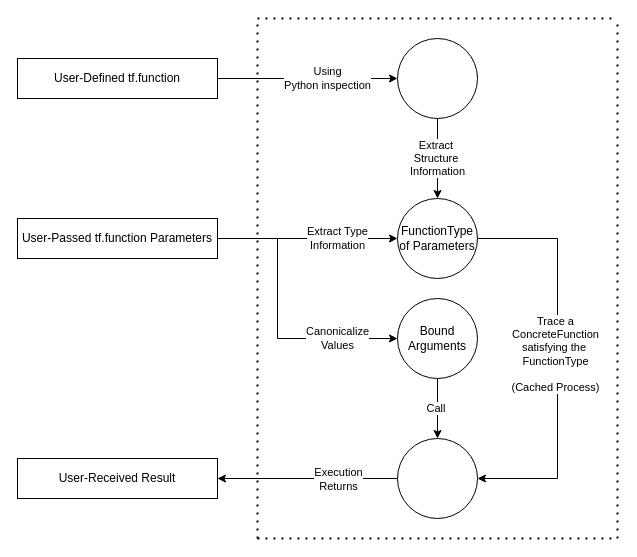
This 637x557 diagram has some shape labels left out. The centre of each missing label's shape, as x and y in pixels:
Concrete Function: the point at 437,478
FunctionType of tf.function: the point at 437,78
